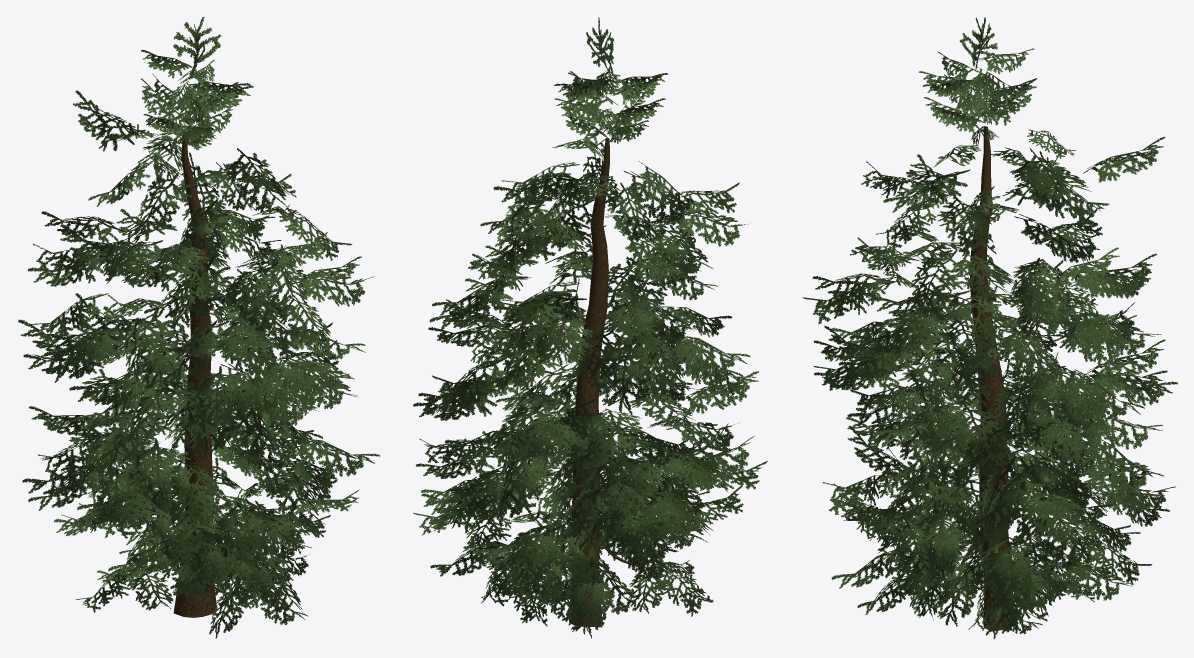
File: fir3_l2.glb
The picture shows the model from 3 angles, left to right: view 1: azimuth 30°, elevation 25°; view 2: azimuth 150°, elevation 25°; view 3: azimuth 270°, elevation 25°; orthographic projection.
Parts seen in each view (by area): view 1: Christmas tree_3_LOD2_Brunches_Mat_0, Christmas tree_3_LOD2_Bark_Mat_0; view 2: Christmas tree_3_LOD2_Brunches_Mat_0, Christmas tree_3_LOD2_Bark_Mat_0; view 3: Christmas tree_3_LOD2_Brunches_Mat_0, Christmas tree_3_LOD2_Bark_Mat_0.
Boxes of the visible parts, x1=… form: Christmas tree_3_LOD2_Brunches_Mat_0: x1=18, y1=17, x2=379, y2=638; Christmas tree_3_LOD2_Bark_Mat_0: x1=148, y1=131, x2=235, y2=617; Christmas tree_3_LOD2_Brunches_Mat_0: x1=413, y1=17, x2=767, y2=638; Christmas tree_3_LOD2_Bark_Mat_0: x1=551, y1=138, x2=659, y2=627; Christmas tree_3_LOD2_Brunches_Mat_0: x1=803, y1=17, x2=1177, y2=639; Christmas tree_3_LOD2_Bark_Mat_0: x1=937, y1=126, x2=1012, y2=631.
Size of the model in its own units: 10.18 by 18.31 by 10.41.
Materials: 2 (2 with a texture image).
